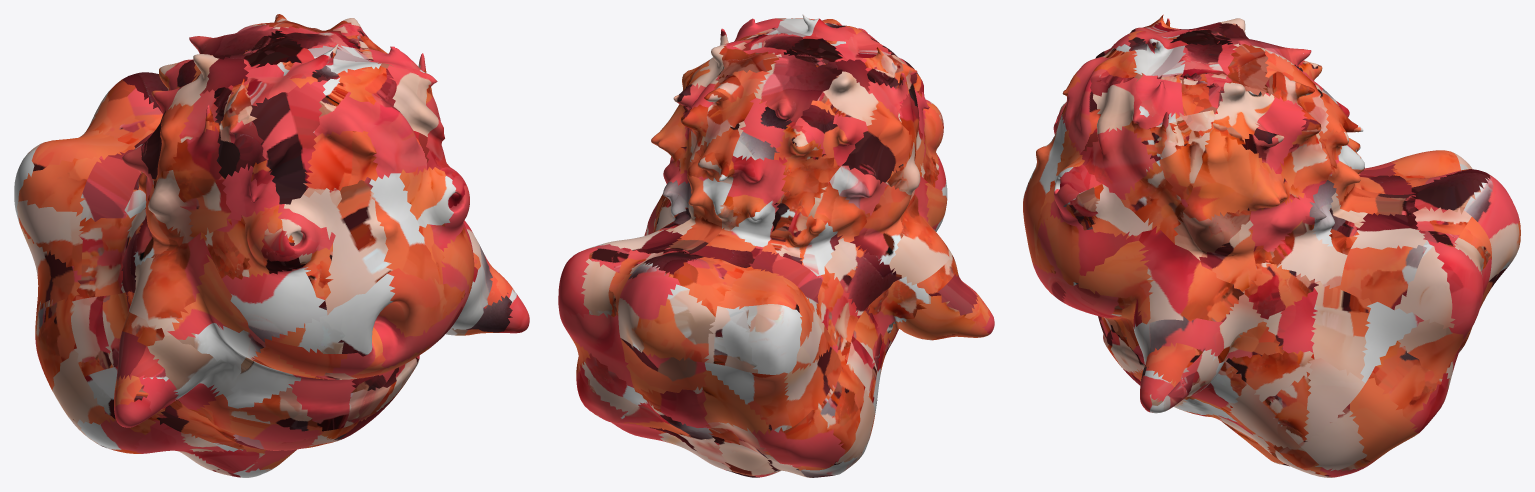
Rendered from ponyo.fbx.
The picture shows the model from 3 angles, left to right: view 1: azimuth 30°, elevation 25°; view 2: azimuth 150°, elevation 25°; view 3: azimuth 270°, elevation 25°; orthographic projection. The views are drawn at different scales.
Parts seen in each view (by area): view 1: Mesh_0.003; view 2: Mesh_0.003; view 3: Mesh_0.003.
Boxes of the visible parts, x1,y1,x2,y2 form: Mesh_0.003: (14, 14, 529, 477); Mesh_0.003: (558, 14, 994, 477); Mesh_0.003: (1023, 14, 1520, 477).
Size of the model in its own units: 153 by 172 by 180.
